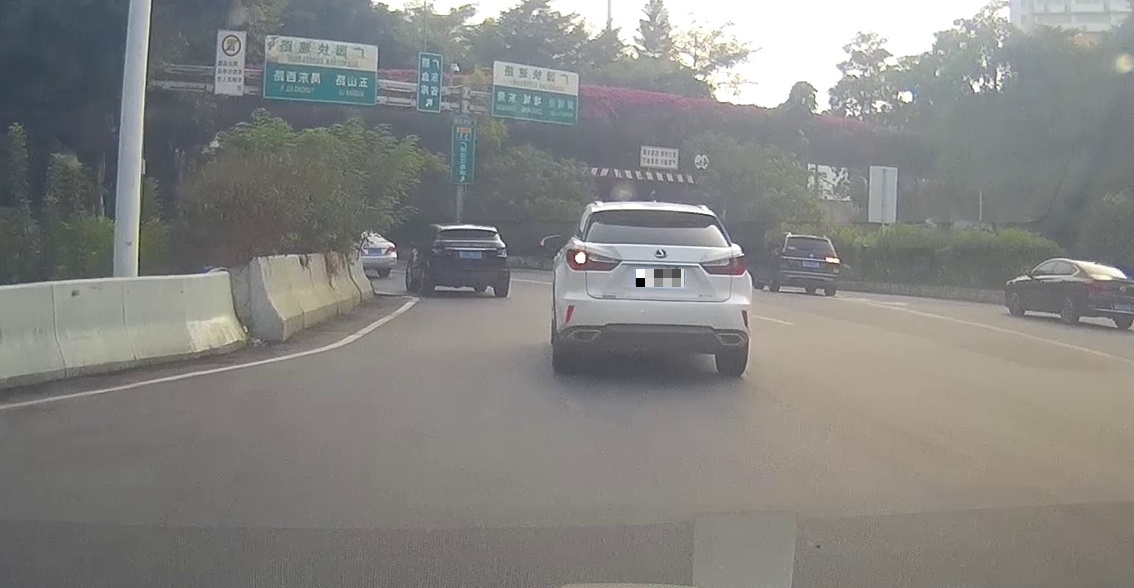L_light: (566, 247, 621, 271), (432, 248, 445, 257), (779, 252, 793, 257)
R_light: (700, 253, 747, 276), (495, 248, 507, 257), (825, 257, 839, 263)
T_light: (645, 209, 666, 215), (462, 228, 474, 231), (803, 237, 813, 240)
day-left: (554, 201, 753, 375)
day-no: (430, 224, 509, 297)
day-right: (778, 234, 840, 296)
plate_1: (636, 269, 684, 287)
